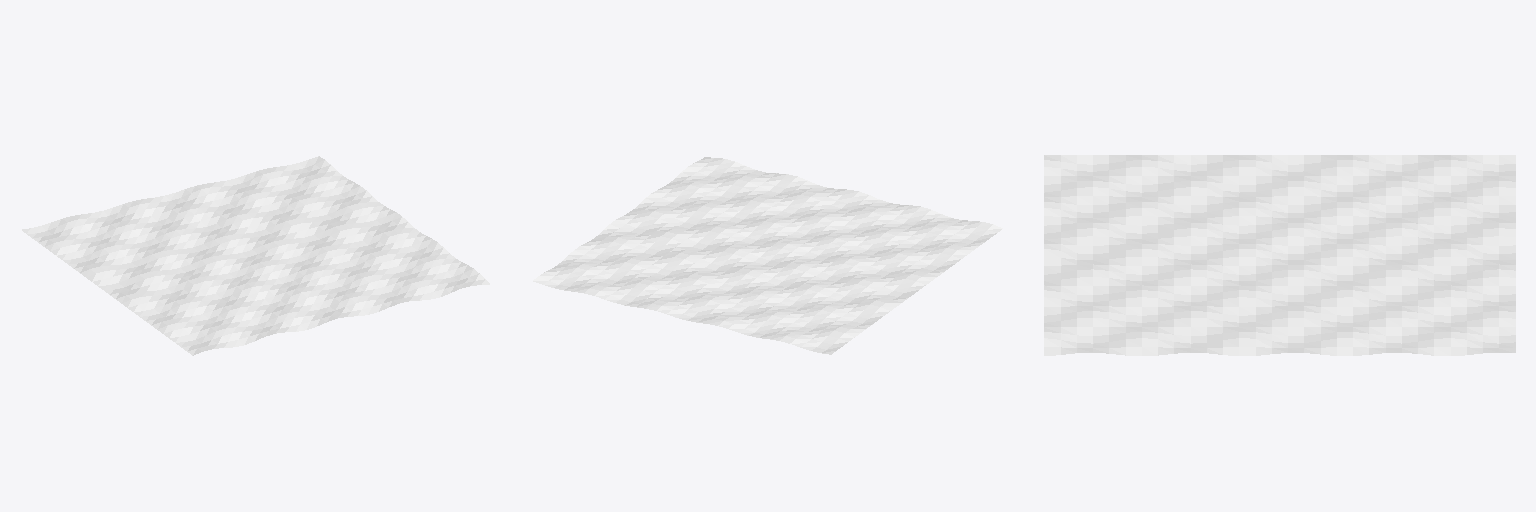
URDF robot description (terrain):
<?xml version="1.0" ?>
<robot name="terrain">
  <link name="terrainLink">
  <contact>
      <!-- In PyBullet, the friction coefficients are computed by the multiplication of two lateral_friction values. -->
      <!-- Therefore, by setting lateral_friction=1.0 in the terrain, the friction value of the robot is directly used. -->
      <lateral_friction value="1.0"/> 
  </contact>
    <inertial>
      <origin rpy="0 0 0" xyz="0 0 0"/>
       <mass value=".0"/>
       <inertia ixx="0" ixy="0" ixz="0" iyy="0" iyz="0" izz="0"/>
    </inertial>
    <visual>
      <origin rpy="0 0 0" xyz="0 0 0"/>
      <geometry>
		<mesh filename="terrain.obj" scale="0.25 0.25 0.5"/>
      </geometry>
       <material name="white">
        <color rgba="1 1 1 1"/>
      </material>
    </visual>
		<collision concave="yes">
      <origin rpy="0 0 0" xyz="0 0 0"/>
      <geometry>
		<mesh filename="terrain.obj" scale="0.25 0.25 0.5"/>
      </geometry>
    </collision>
  </link>
</robot>

--- What the picture shows (computed from the rendered views, not written in the file) ---
The picture shows the robot from 3 angles, left to right: view 1: azimuth 30°, elevation 25°; view 2: azimuth 150°, elevation 25°; view 3: azimuth 270°, elevation 25°; orthographic projection.
Robot: terrain — 1 links, 0 joints (none); root link terrainLink; default pose: every joint at zero.
Visible links, largest first — view 1: terrainLink; view 2: terrainLink; view 3: terrainLink.
Boxes of the visible links, x1,y1,x2,y2 form: terrainLink: (22,156,489,355); terrainLink: (533,157,1002,354); terrainLink: (1044,155,1515,355).
Bounding box of the posed robot: 7.25 × 7.25 × 0.1 m (x, y, z).
Meshes: 1 distinct files referenced, 1 mesh visuals loaded (1 OBJ).
